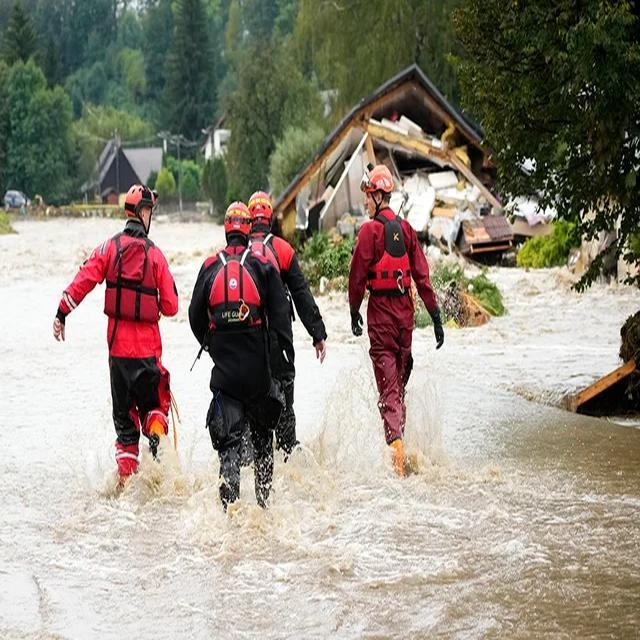Person-RiskLevel2: (54, 180, 181, 495), (333, 161, 450, 487), (188, 201, 298, 512), (234, 192, 318, 471)
